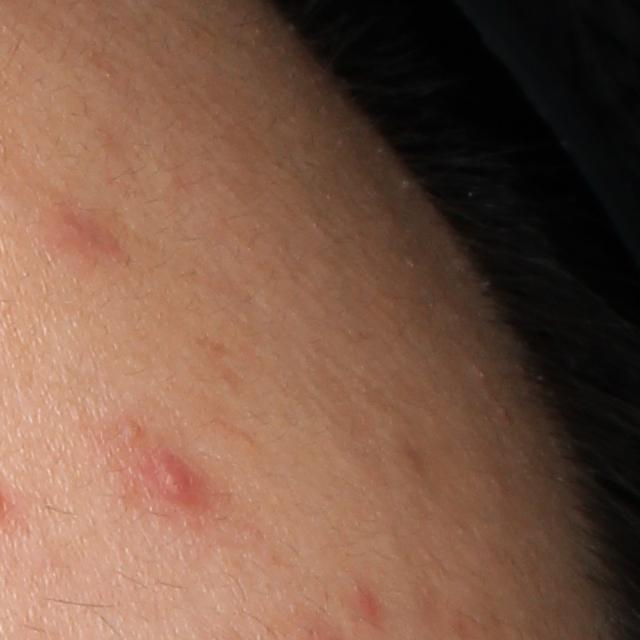comedo: (114, 415, 146, 441)
papule: (144, 449, 206, 511)
